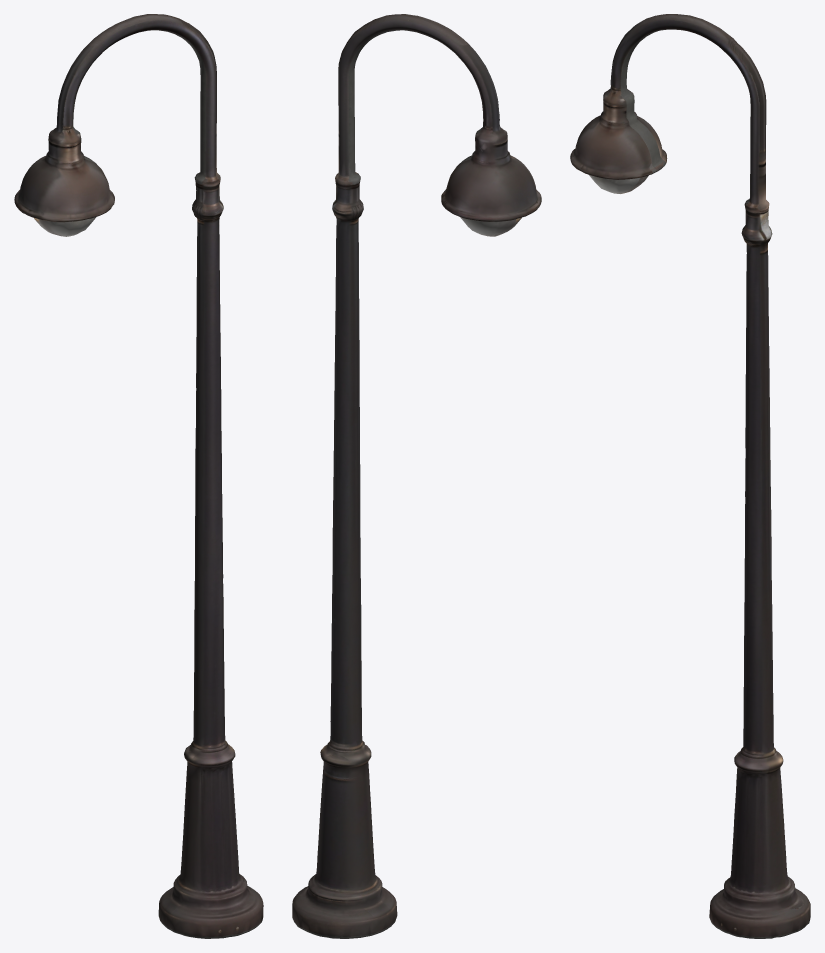
File: lamppost.glb
3 views of the same model, side by side, from view 1: azimuth 30°, elevation 25°; view 2: azimuth 150°, elevation 25°; view 3: azimuth 330°, elevation 25° (orthographic). The views are drawn at different scales.
Bounding box in the file's own units: 0.5134 × 1.91 × 0.1979.
Materials: 1 (1 with a texture image).
